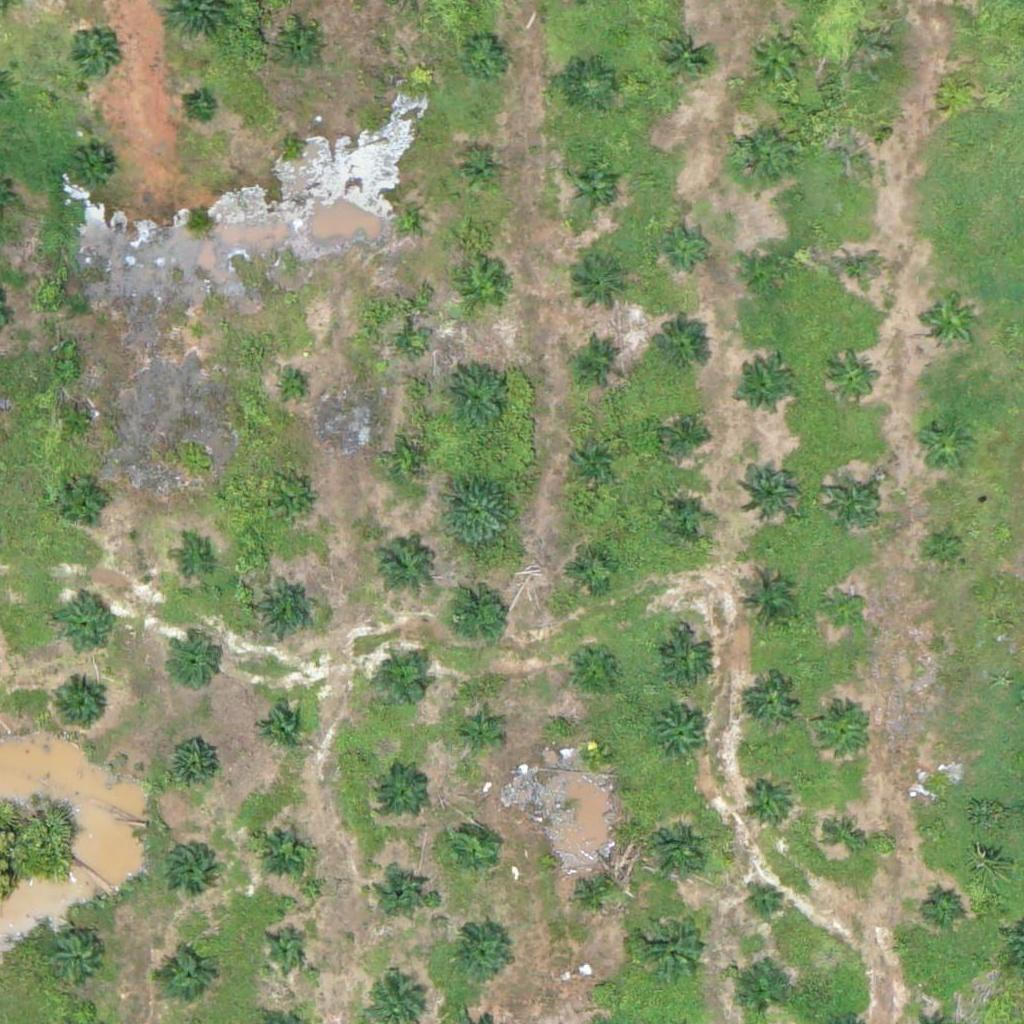Kelapa_Sawit: (437, 359, 512, 435), (441, 577, 516, 653), (636, 903, 711, 979), (441, 473, 516, 549), (370, 532, 433, 595), (912, 414, 975, 477), (655, 628, 718, 691), (255, 578, 318, 641), (571, 252, 634, 315), (729, 123, 792, 186), (919, 291, 982, 354), (650, 321, 713, 384), (734, 359, 796, 422), (647, 820, 709, 883), (735, 572, 797, 635), (822, 473, 884, 536), (738, 456, 800, 519), (446, 922, 508, 985), (49, 675, 111, 738), (253, 817, 315, 880), (53, 593, 115, 656), (747, 26, 809, 89), (652, 707, 714, 769), (828, 352, 878, 403), (158, 951, 208, 1002), (169, 637, 219, 688), (52, 936, 102, 987), (166, 738, 216, 789), (257, 702, 307, 753), (59, 474, 109, 525), (565, 60, 615, 111), (460, 31, 510, 82), (658, 31, 708, 82), (832, 246, 882, 297), (744, 244, 794, 295), (662, 221, 712, 272), (570, 163, 620, 214), (378, 863, 428, 913), (381, 657, 431, 707), (377, 767, 427, 817), (567, 640, 617, 690), (566, 544, 616, 594), (748, 675, 798, 725), (818, 707, 868, 757), (731, 970, 781, 1020), (444, 823, 494, 873), (163, 841, 213, 891), (459, 265, 509, 315), (571, 866, 621, 916), (278, 25, 328, 75), (660, 410, 710, 460), (662, 494, 712, 544), (568, 430, 618, 480), (573, 335, 623, 385), (455, 148, 505, 198), (743, 779, 793, 829), (67, 31, 117, 81), (70, 145, 120, 195), (459, 713, 497, 751), (172, 543, 210, 581), (746, 881, 784, 919), (936, 69, 974, 107), (823, 592, 861, 630), (921, 775, 959, 813), (827, 817, 865, 855), (277, 486, 314, 524), (926, 889, 964, 926), (266, 930, 303, 968), (843, 121, 880, 159), (61, 404, 98, 442), (926, 529, 963, 566), (187, 94, 212, 120), (399, 450, 424, 476), (392, 205, 417, 230), (397, 333, 422, 358), (280, 376, 305, 401), (280, 132, 305, 157), (580, 741, 605, 766), (587, 976, 612, 1001), (186, 321, 211, 346)
